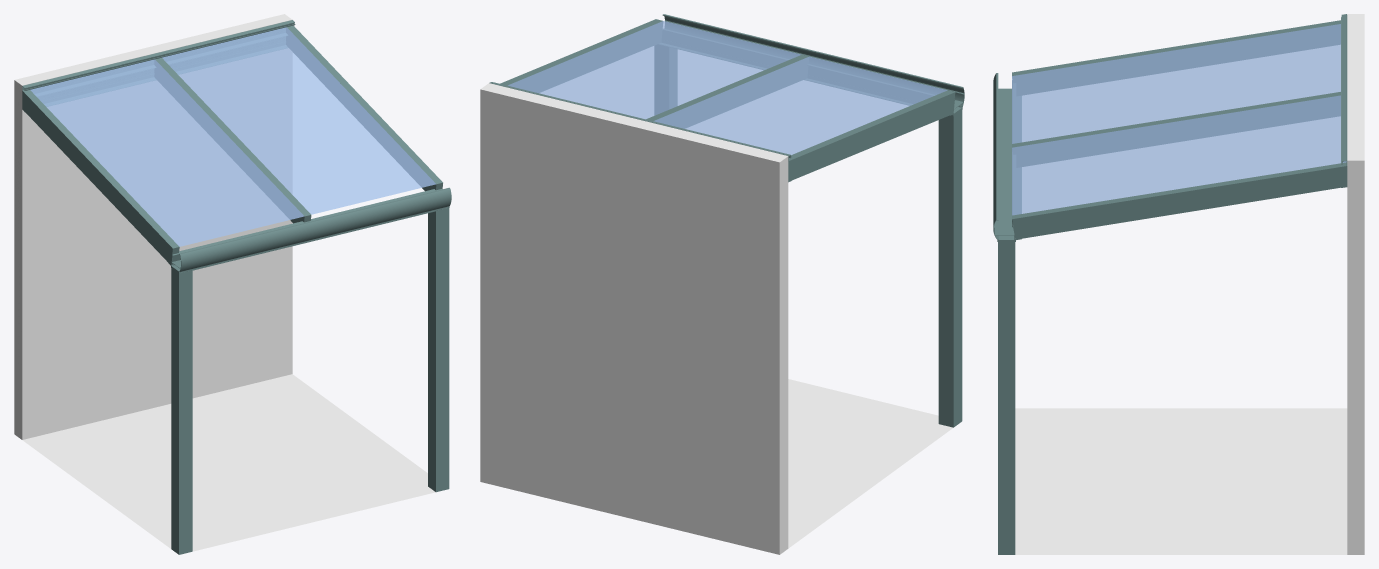
The picture shows the model from 3 angles, left to right: view 1: azimuth 30°, elevation 25°; view 2: azimuth 150°, elevation 25°; view 3: azimuth 270°, elevation 25°; orthographic projection. The views are drawn at different scales.
Parts seen in each view (by area): view 1: instance_0, instance_4, instance_5, instance_1, instance_11, instance_9, instance_2, instance_6.002, instance_7, instance_10, instance_8, instance_3.009 (+5 smaller); view 2: instance_0, instance_11, instance_4, instance_5, instance_1, instance_9, instance_7, instance_6.002, instance_10, instance_8, instance_6.014, instance_2 (+2 smaller); view 3: instance_4, instance_1, instance_5, instance_10, instance_8, instance_7, instance_0, instance_2, instance_11, instance_6.011, instance_6.002, instance_3.018 (+2 smaller).
Part boxes in pixels (left/top/right/bottom): instance_0: left=14, top=92, right=292, bottom=439; instance_4: left=22, top=374, right=435, bottom=551; instance_5: left=30, top=59, right=304, bottom=246; instance_1: left=162, top=27, right=435, bottom=214; instance_11: left=14, top=14, right=292, bottom=156; instance_9: left=171, top=266, right=192, bottom=554; instance_2: left=428, top=208, right=449, bottom=492; instance_6.002: left=179, top=187, right=451, bottom=271; instance_7: left=22, top=90, right=179, bottom=264; instance_10: left=286, top=25, right=442, bottom=191; instance_8: left=154, top=57, right=311, bottom=223; instance_3.009: left=22, top=31, right=286, bottom=109; instance_0: left=480, top=168, right=788, bottom=554; instance_11: left=480, top=83, right=788, bottom=241; instance_4: left=788, top=379, right=952, bottom=548; instance_5: left=653, top=56, right=947, bottom=154; instance_1: left=508, top=21, right=801, bottom=119; instance_9: left=938, top=108, right=962, bottom=427; instance_7: left=788, top=90, right=955, bottom=181; instance_6.002: left=662, top=14, right=964, bottom=106; instance_10: left=500, top=19, right=662, bottom=92; instance_8: left=646, top=55, right=808, bottom=128; instance_6.014: left=662, top=29, right=954, bottom=110; instance_2: left=654, top=44, right=677, bottom=114; instance_4: left=1015, top=408, right=1347, bottom=554; instance_1: left=1012, top=95, right=1346, bottom=215; instance_5: left=1012, top=24, right=1340, bottom=143; instance_10: left=1012, top=162, right=1347, bottom=239; instance_8: left=1012, top=92, right=1340, bottom=167; instance_7: left=1012, top=20, right=1340, bottom=95; instance_0: left=1347, top=240, right=1364, bottom=554; instance_2: left=998, top=240, right=1015, bottom=554; instance_11: left=1347, top=14, right=1364, bottom=240; instance_6.011: left=995, top=88, right=1014, bottom=235; instance_6.002: left=993, top=73, right=998, bottom=239; instance_3.018: left=1341, top=14, right=1346, bottom=161.
Size of the model in its own units: 2 by 2.51 by 2.14.
